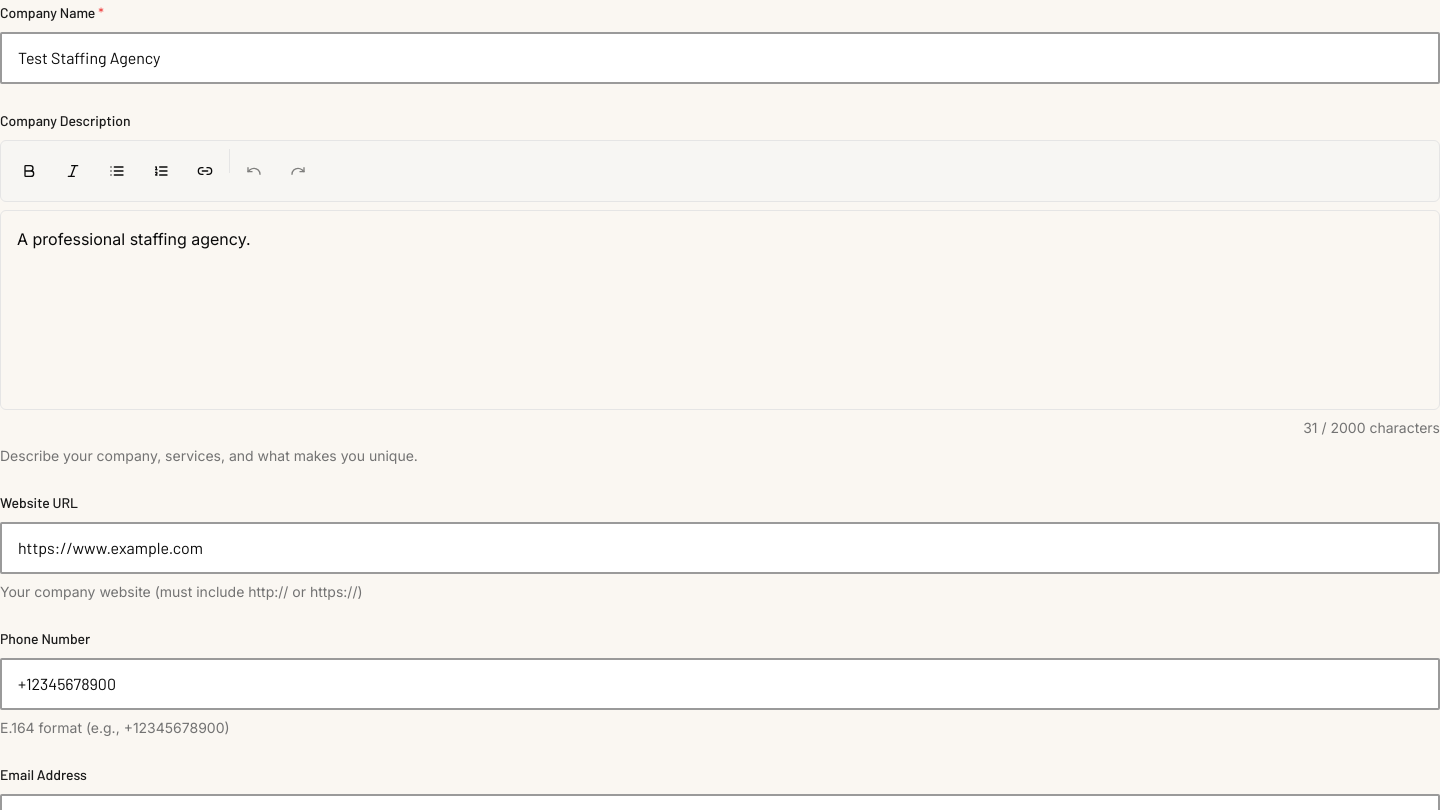
Test: ProfileEditForm › Form Actions › should disable buttons while submitting
Later steps or results of the test are not shown.
Type " Updated" into the field showing "Test Staffing Agency" at [720, 58], box [0,32,1439,84]
(page scrolled)
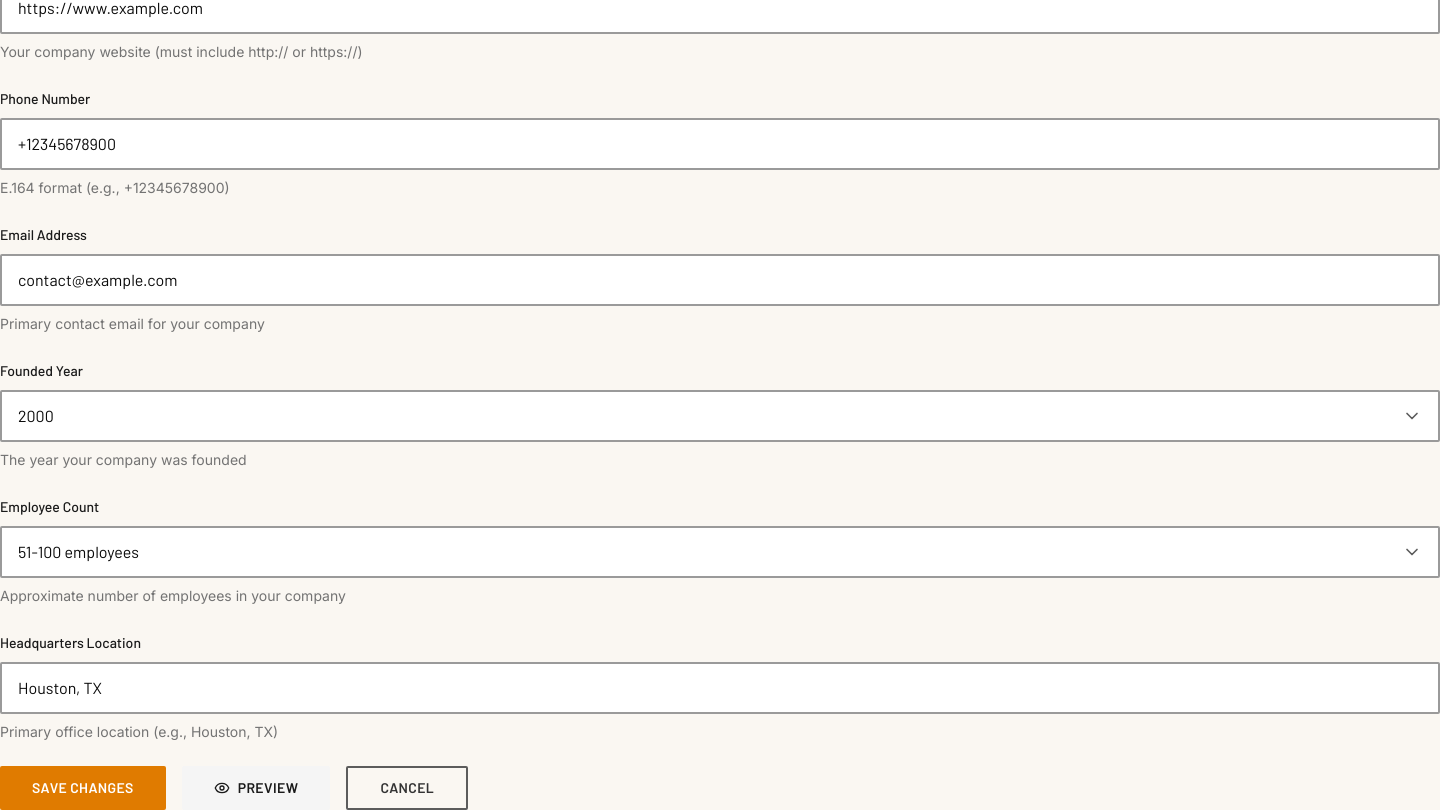
Click the button "Save Changes" at [83, 788], box [0,766,166,809]
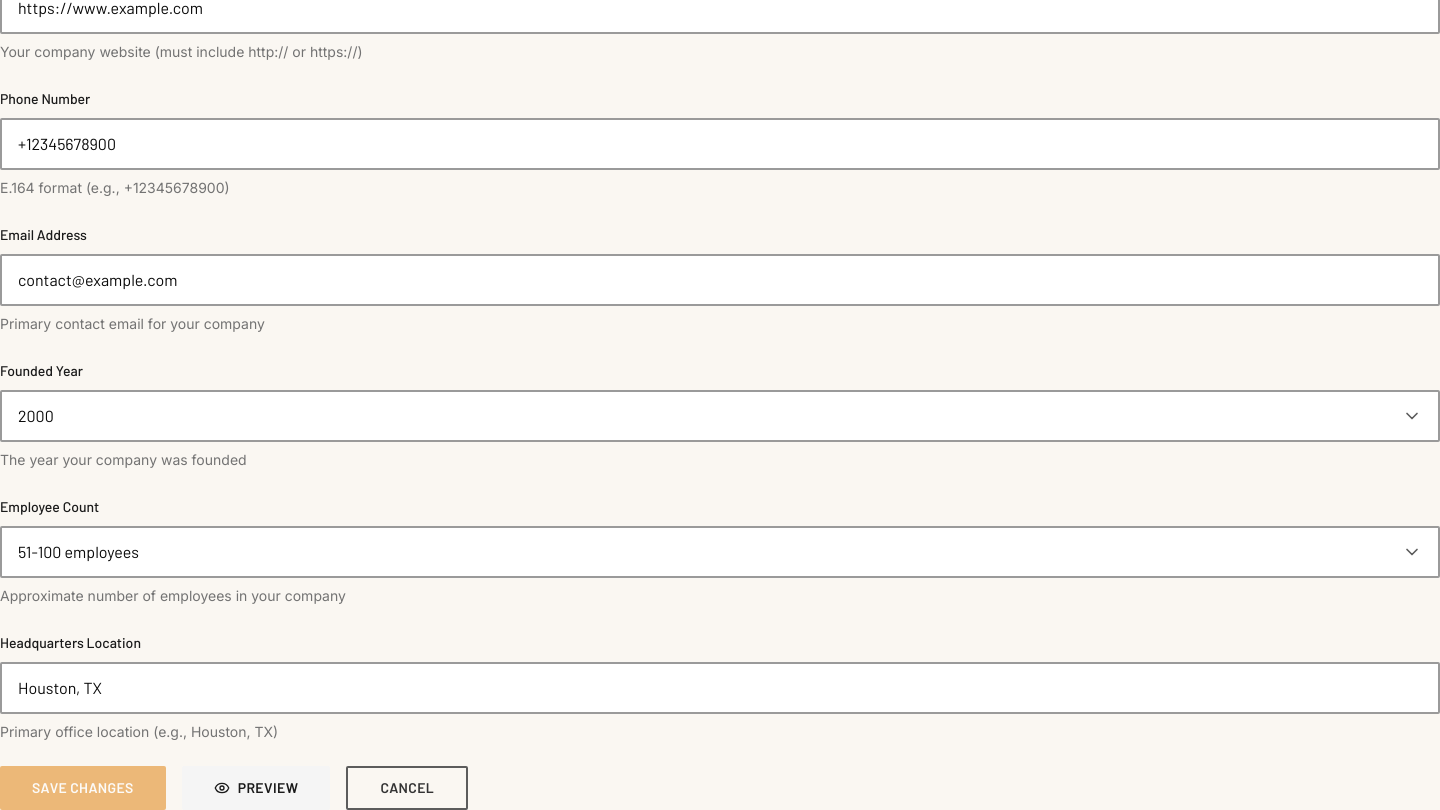
Expected: the button "Cancel" is enabled, [346,766,468,809]
Expected: the button "Save Changes" is disabled, [0,766,166,809]
